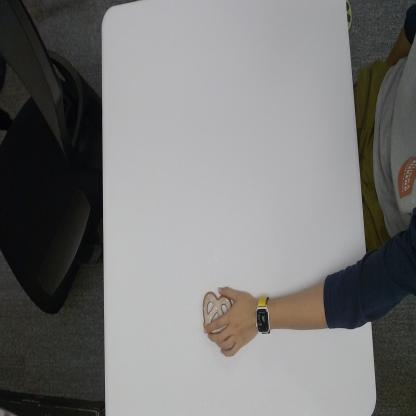Hand: (205, 282, 254, 359)
Pretzel: (202, 292, 232, 331)
